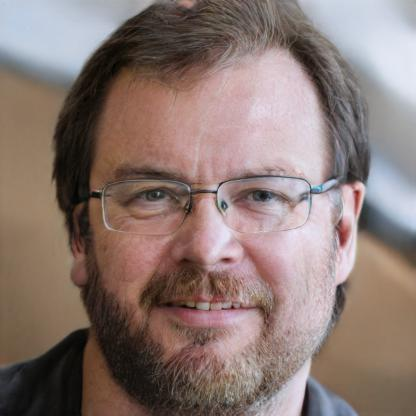glasses: (95, 166, 326, 240)
